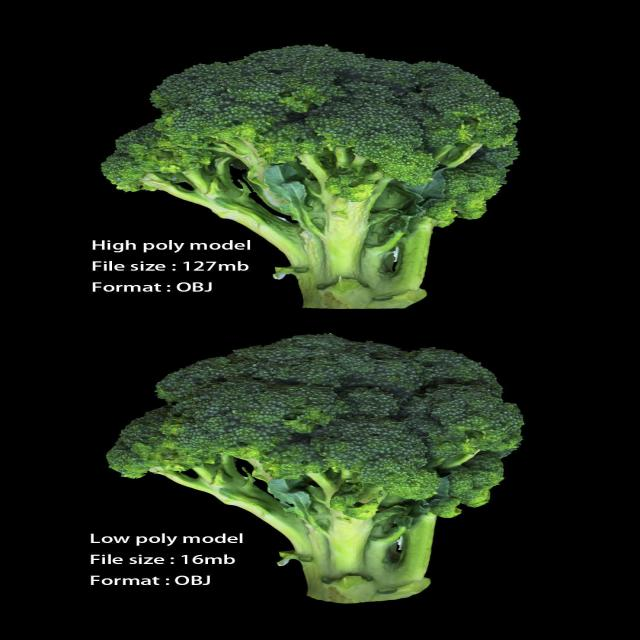broccoli: (91, 44, 527, 314), (101, 334, 529, 606)
